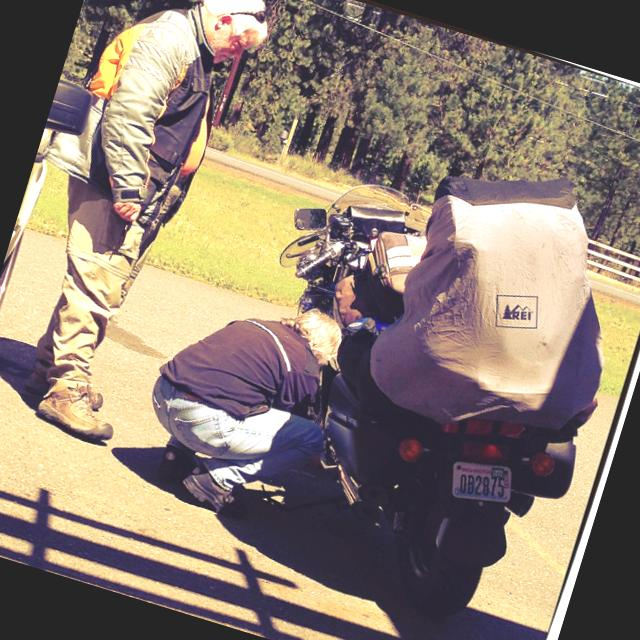Vehicle: (192, 162, 634, 640), (0, 79, 95, 348)
